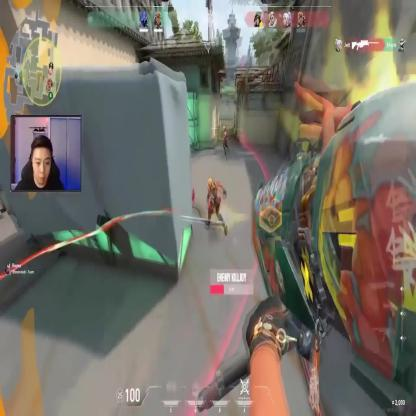enemy: (204, 175, 228, 234), (222, 123, 230, 161)
enemy_head: (208, 177, 214, 188), (223, 126, 225, 130)
